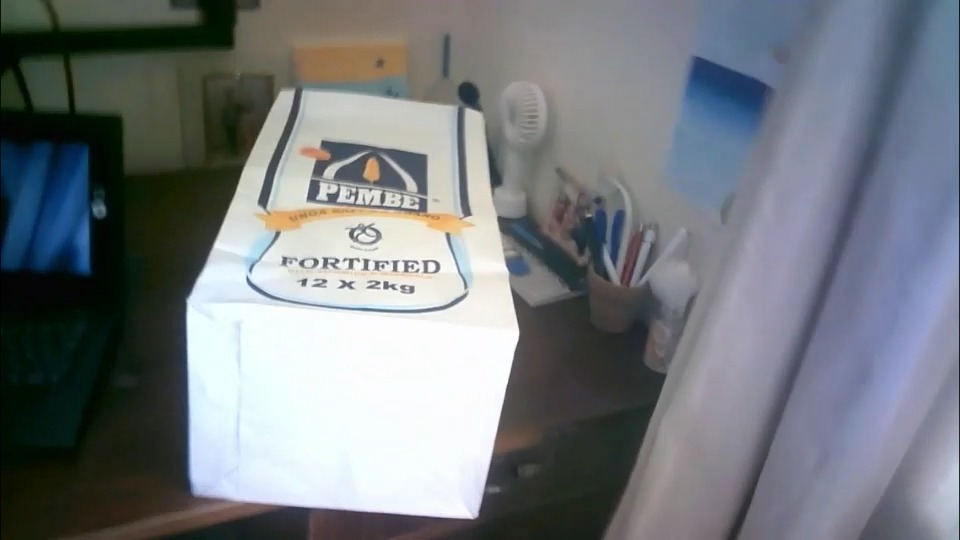wheat_flour_blue_label: (177, 92, 516, 526)
